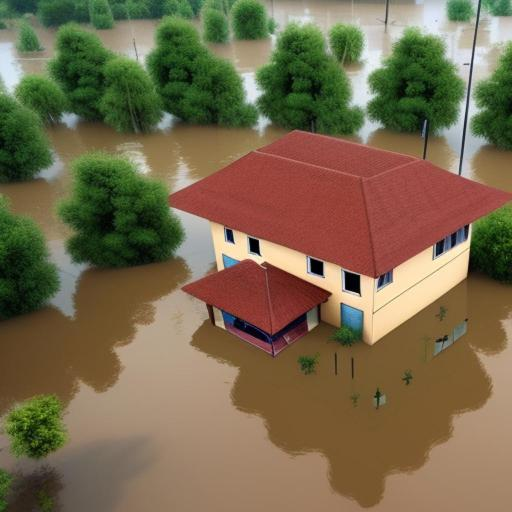flood: (0, 114, 512, 512), (263, 0, 474, 107), (208, 35, 276, 102), (0, 20, 55, 90), (463, 130, 512, 192), (88, 20, 158, 63), (354, 116, 424, 158), (474, 10, 512, 85), (427, 119, 462, 173)
house: (165, 126, 512, 362)
